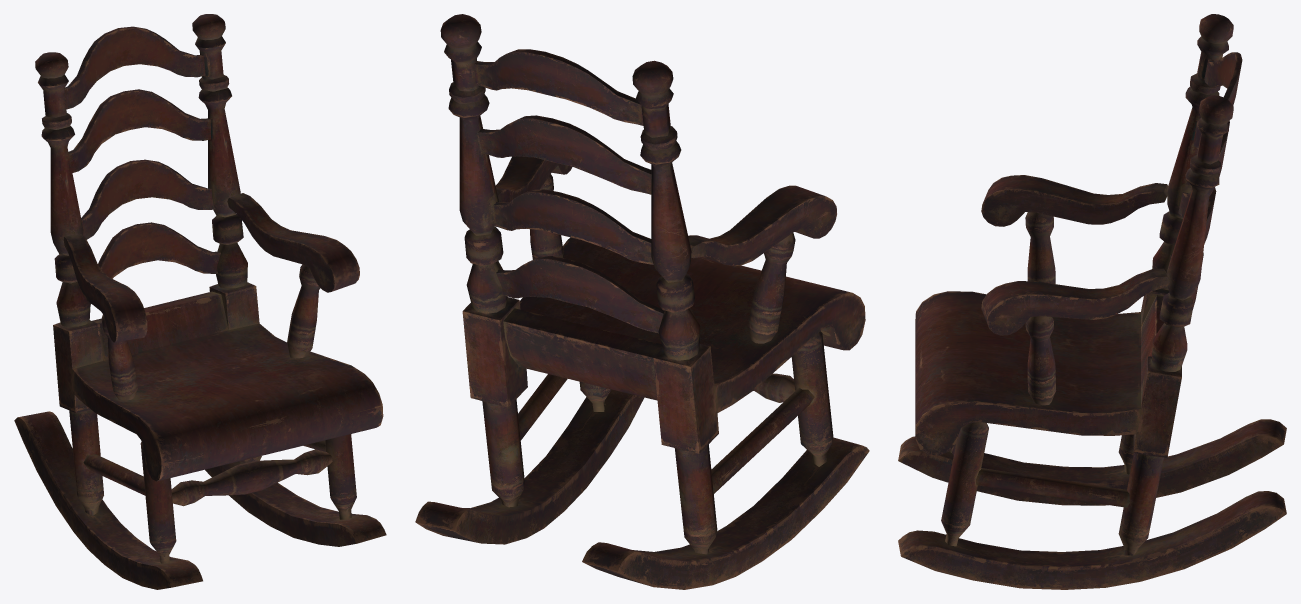
The model's file is asylum_rockingchair01.obj.
3 renders of one model, left to right at view 1: azimuth 30°, elevation 25°; view 2: azimuth 150°, elevation 25°; view 3: azimuth 270°, elevation 25°, orthographic. The views are drawn at different scales.
Parts seen in each view (by area): view 1: Asylum_RockingChair01_3; view 2: Asylum_RockingChair01_3; view 3: Asylum_RockingChair01_3.
Boxes of the visible parts, x1,y1,x2,y2 form: Asylum_RockingChair01_3: [14, 14, 386, 589]; Asylum_RockingChair01_3: [415, 14, 869, 589]; Asylum_RockingChair01_3: [898, 14, 1286, 589].
Size of the model in its own units: 44.88 by 79.97 by 58.47.
1 material, 1 textured.
